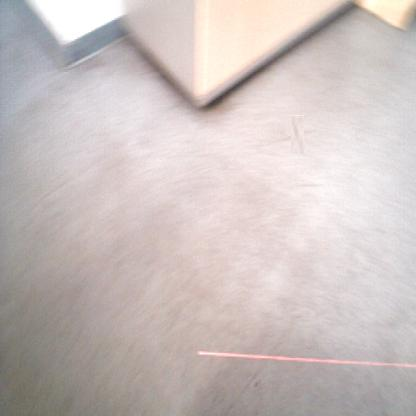mark: (284, 122, 311, 148), (294, 182, 314, 188), (253, 380, 261, 388)
